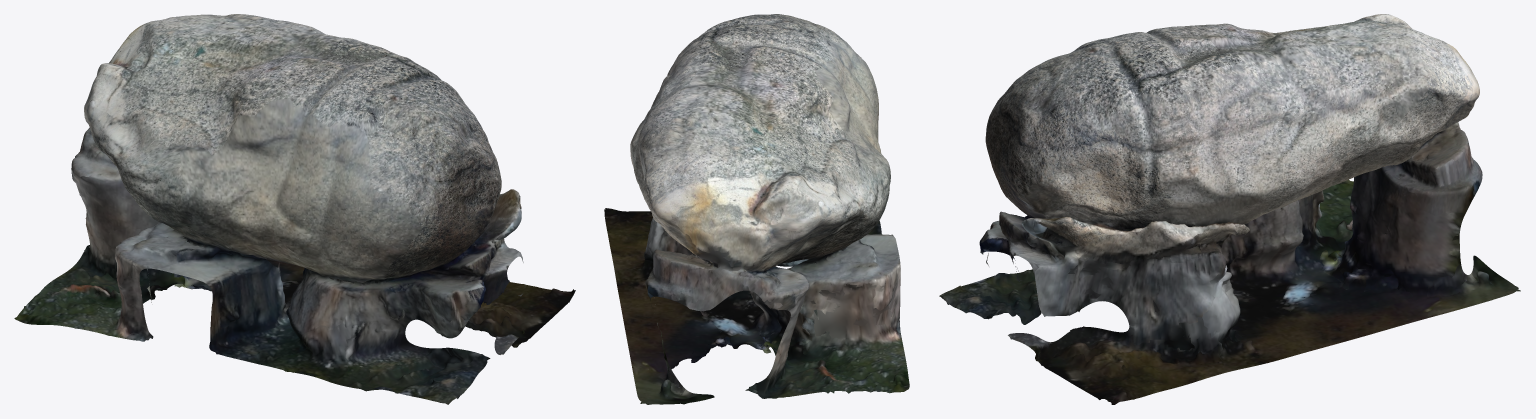
3 views of the same model, side by side, from view 1: azimuth 30°, elevation 25°; view 2: azimuth 150°, elevation 25°; view 3: azimuth 270°, elevation 25° (orthographic). The views are drawn at different scales.
Visible parts, largest first — view 1: Object; view 2: Object; view 3: Object.
Boxes of the visible parts, <box> form: Object: <box>14,14,575,404</box>; Object: <box>604,14,909,404</box>; Object: <box>939,14,1520,404</box>.
Size of the model in its own units: 1.64 by 0.9217 by 1.79.
Materials: 1 (1 with a texture image).
